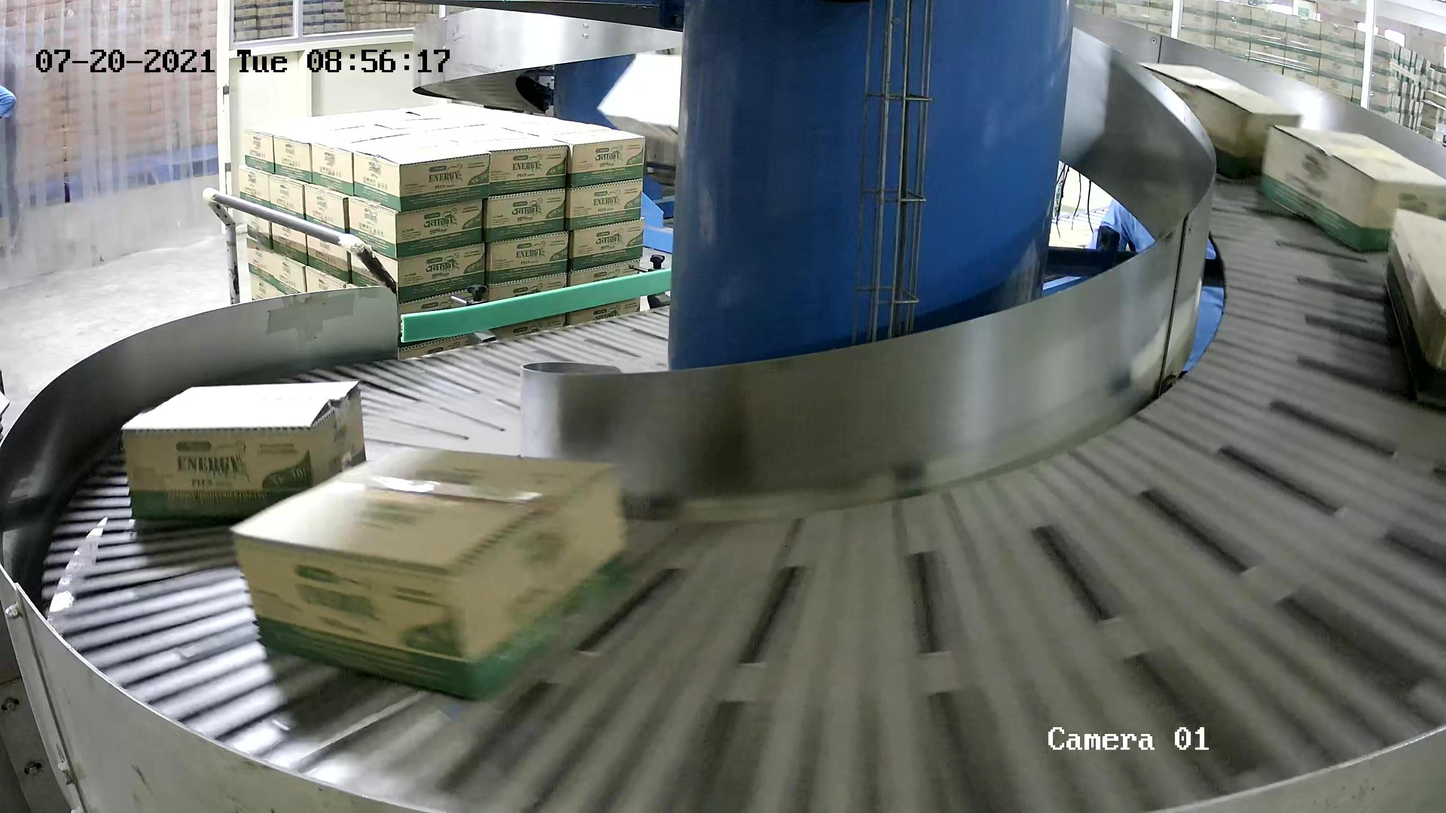Box: (230, 446, 634, 705), (122, 381, 372, 520), (1260, 123, 1446, 255), (1120, 61, 1304, 181), (1381, 206, 1446, 412)
